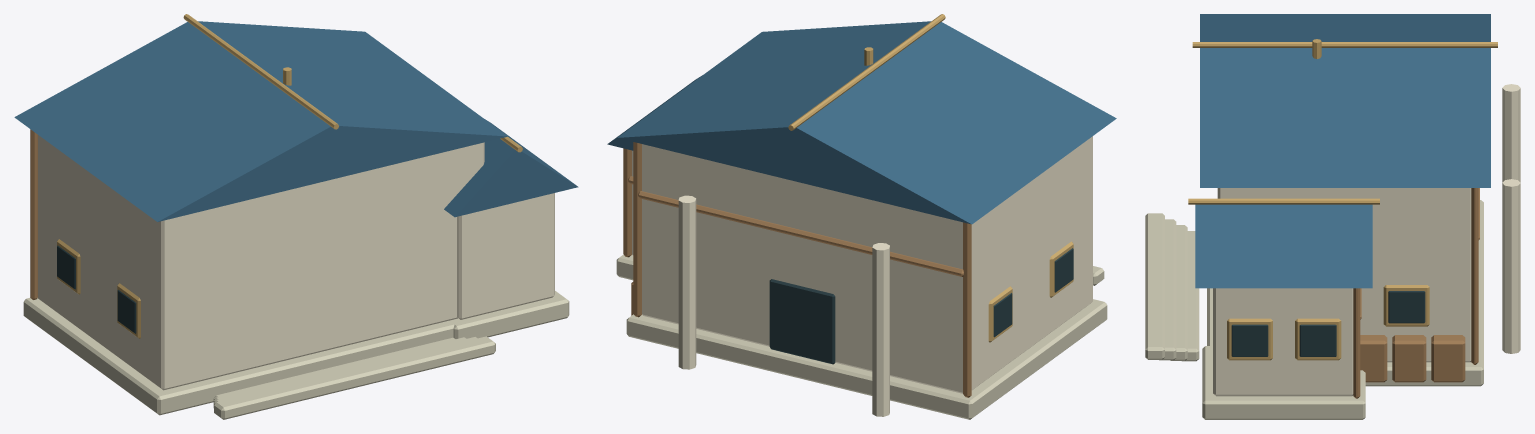
The model's file is level_28.glb.
3 renders of one model, left to right at view 1: azimuth 30°, elevation 25°; view 2: azimuth 150°, elevation 25°; view 3: azimuth 270°, elevation 25°, orthographic.
Parts seen in each view (by area): view 1: warehouse — level 28; view 2: warehouse — level 28; view 3: warehouse — level 28.
Boxes of the visible parts, <box> form: warehouse — level 28: <box>14,14,578,419</box>; warehouse — level 28: <box>607,14,1116,419</box>; warehouse — level 28: <box>1145,14,1520,419</box>.
Size of the model in its own units: 6.93 by 4.16 by 5.29.
